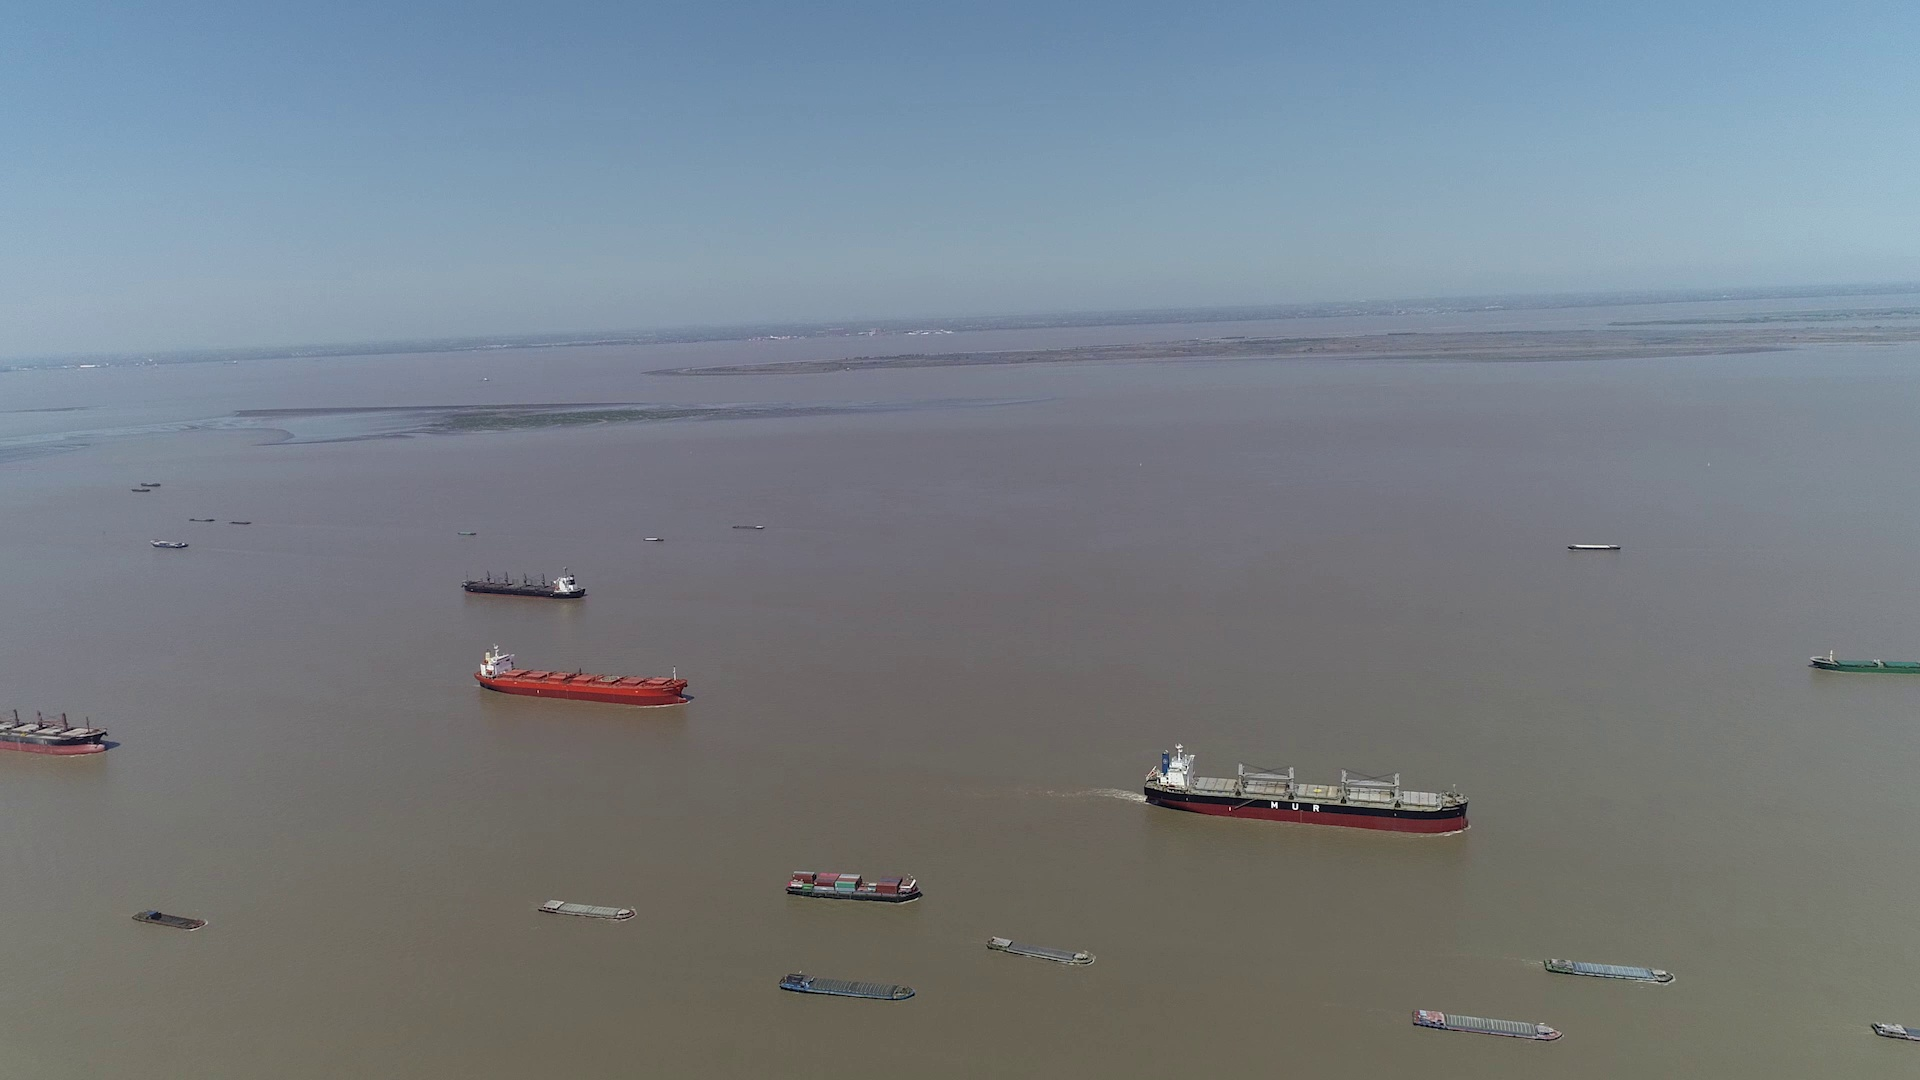ship: (1145, 745, 1469, 833), (476, 644, 691, 705), (0, 692, 113, 758), (1411, 1007, 1559, 1042), (786, 869, 922, 903), (775, 973, 916, 1004), (464, 568, 587, 600), (1545, 956, 1677, 982), (985, 936, 1097, 967), (1809, 650, 1919, 674), (537, 898, 636, 922), (132, 910, 204, 931), (1869, 1021, 1917, 1044), (1565, 543, 1618, 551), (152, 538, 189, 549)
